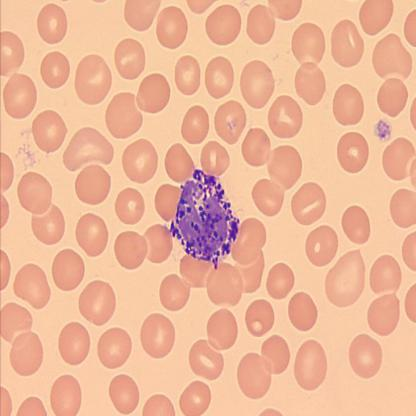Basophil: (167, 164, 242, 269)
